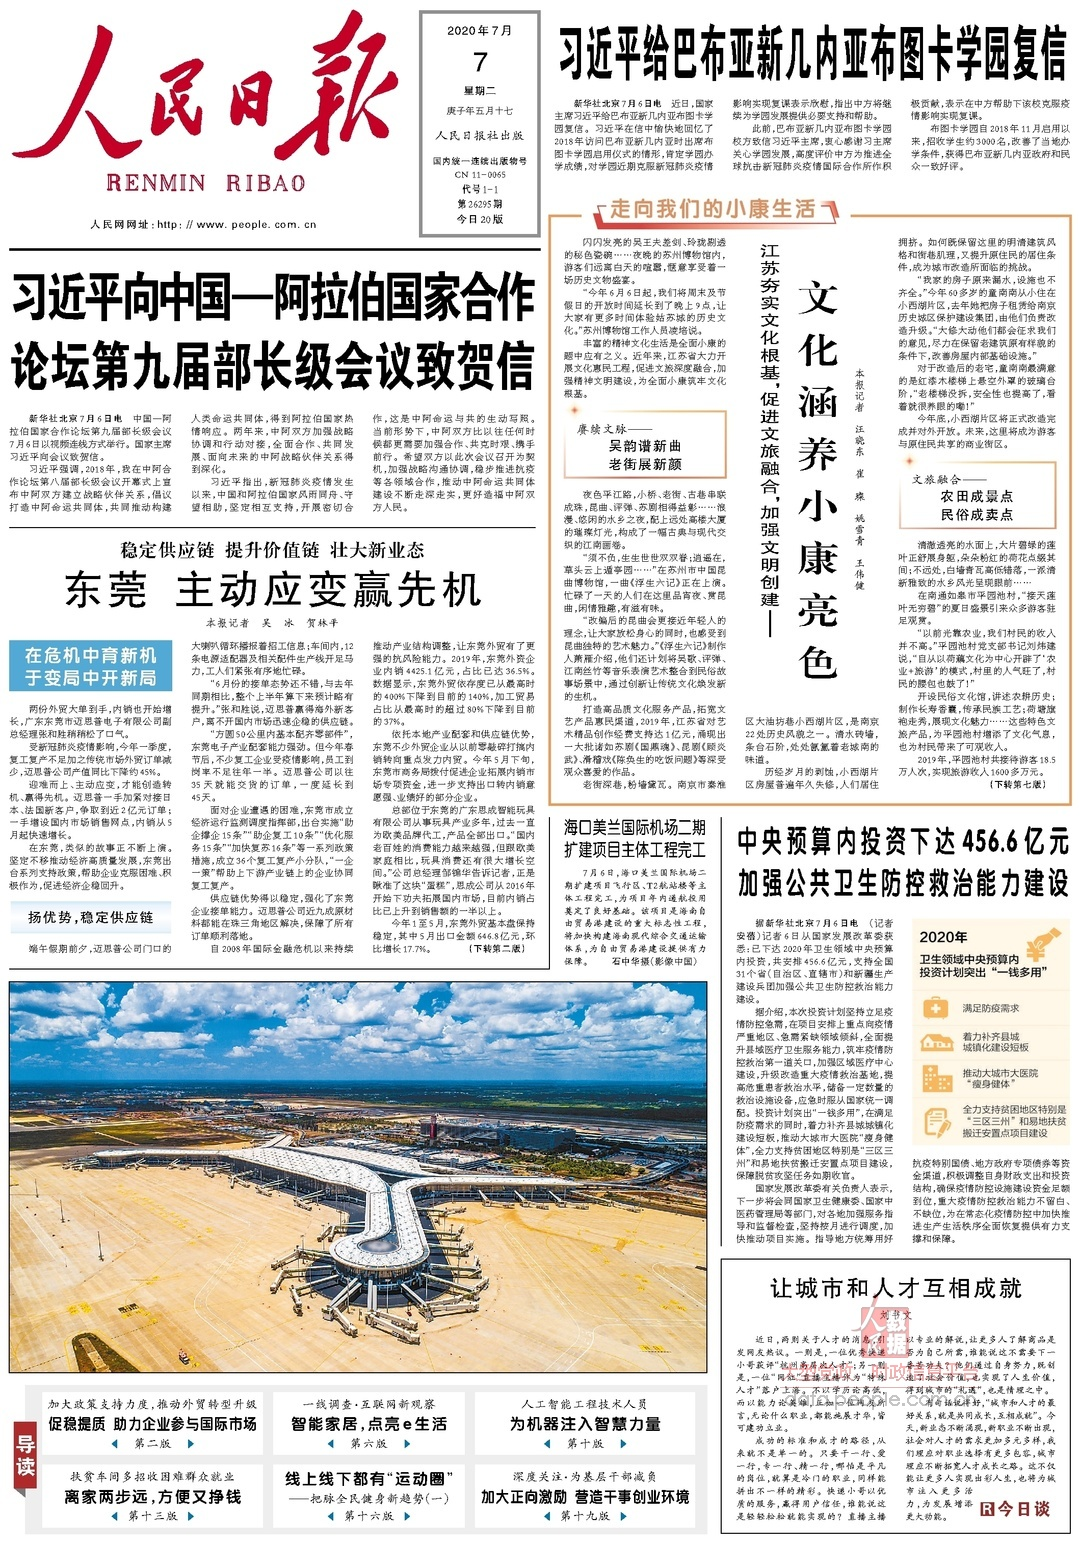pic: (4, 976, 713, 1380)
